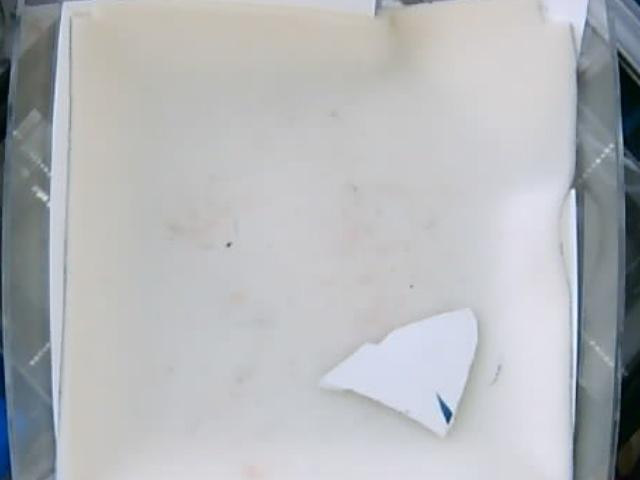China: (321, 306, 479, 437)
